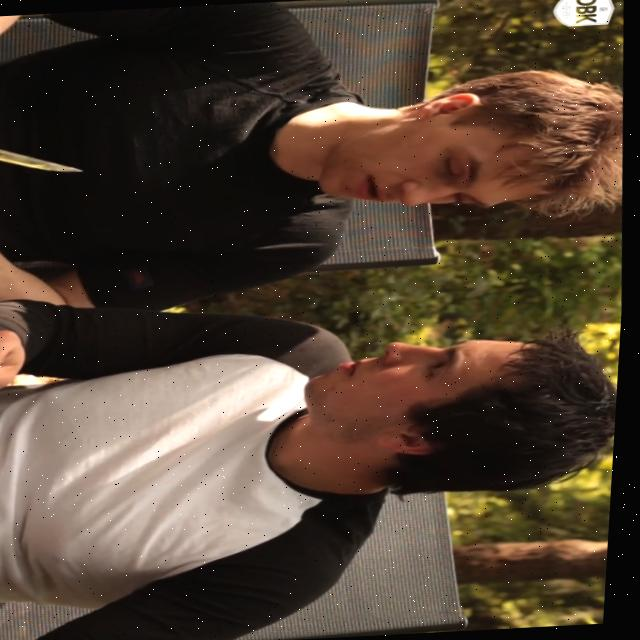knife: (0, 137, 92, 180)
